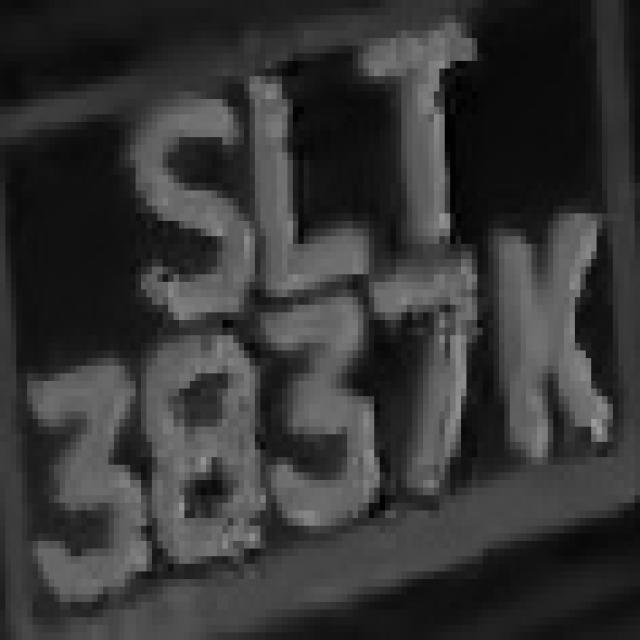3: (11, 336, 146, 632), (255, 297, 396, 541)
7: (358, 252, 494, 510)
8: (130, 320, 277, 579)
K: (483, 183, 629, 472)
L: (238, 61, 368, 297)
S: (92, 84, 266, 320)
T: (347, 30, 505, 244)
